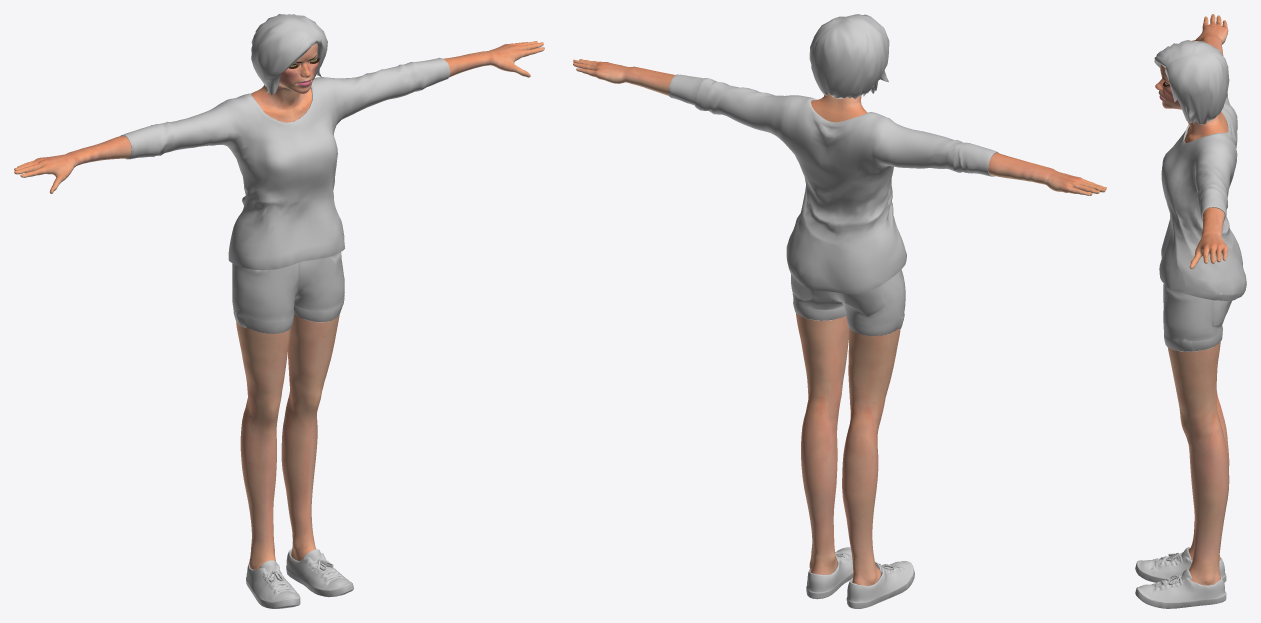
Rendered from Bri.obj.
The picture shows the model from 3 angles, left to right: view 1: azimuth 30°, elevation 25°; view 2: azimuth 150°, elevation 25°; view 3: azimuth 270°, elevation 25°; orthographic projection. The views are drawn at different scales.
Parts seen in each view (by area): view 1: Topsmesh, Bodymesh, Bottomsmesh, Shoesmesh, Hairmesh; view 2: Topsmesh, Bodymesh, Hairmesh, Bottomsmesh, Shoesmesh; view 3: Bodymesh, Topsmesh, Hairmesh, Shoesmesh, Bottomsmesh.
Part boxes in pixels (left/top/right/bottom): Topsmesh: left=120, top=57, right=449, bottom=270; Bodymesh: left=14, top=41, right=544, bottom=569; Bottomsmesh: left=232, top=252, right=344, bottom=333; Shoesmesh: left=246, top=549, right=353, bottom=608; Hairmesh: left=251, top=14, right=327, bottom=94; Topsmesh: left=668, top=74, right=998, bottom=294; Bodymesh: left=573, top=59, right=1106, bottom=585; Hairmesh: left=809, top=14, right=889, bottom=98; Bottomsmesh: left=791, top=270, right=905, bottom=335; Shoesmesh: left=806, top=547, right=914, bottom=608; Bodymesh: left=1155, top=14, right=1229, bottom=585; Topsmesh: left=1159, top=93, right=1246, bottom=300; Hairmesh: left=1154, top=40, right=1229, bottom=124; Shoesmesh: left=1135, top=547, right=1226, bottom=608; Bottomsmesh: left=1163, top=283, right=1231, bottom=351.
Size of the model in its own units: 187 by 192 by 35.57.
